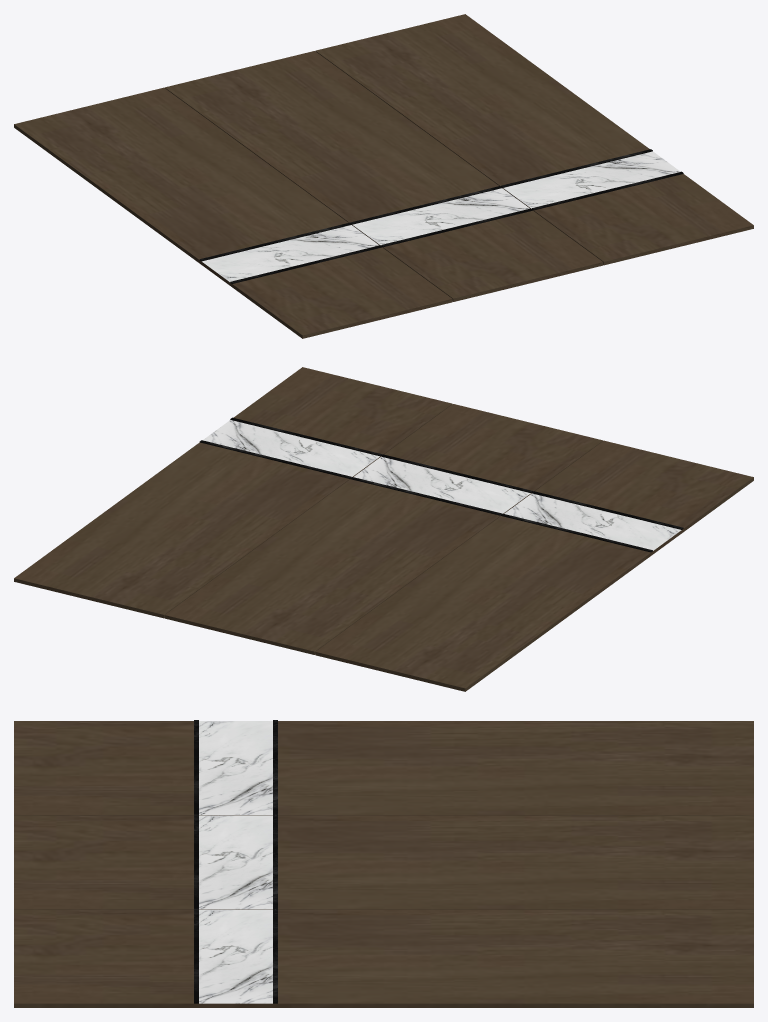
File: wall_panel_v4.glb
The picture shows the model from 3 angles, top to bottom: view 1: azimuth 30°, elevation 25°; view 2: azimuth 150°, elevation 25°; view 3: azimuth 270°, elevation 25°; orthographic projection. The views are drawn at different scales.
Parts seen in each view (by area): view 1: Feature Wall Panel (Belt Design); view 2: Feature Wall Panel (Belt Design); view 3: Feature Wall Panel (Belt Design).
Part boxes in pixels (box(x1,y1,x2,y2)): Feature Wall Panel (Belt Design): box(14, 14, 753, 338); Feature Wall Panel (Belt Design): box(14, 367, 753, 691); Feature Wall Panel (Belt Design): box(14, 720, 753, 1007).
Size of the model in its own units: 2.71 by 0.025 by 3.
3 materials, 3 textured.
